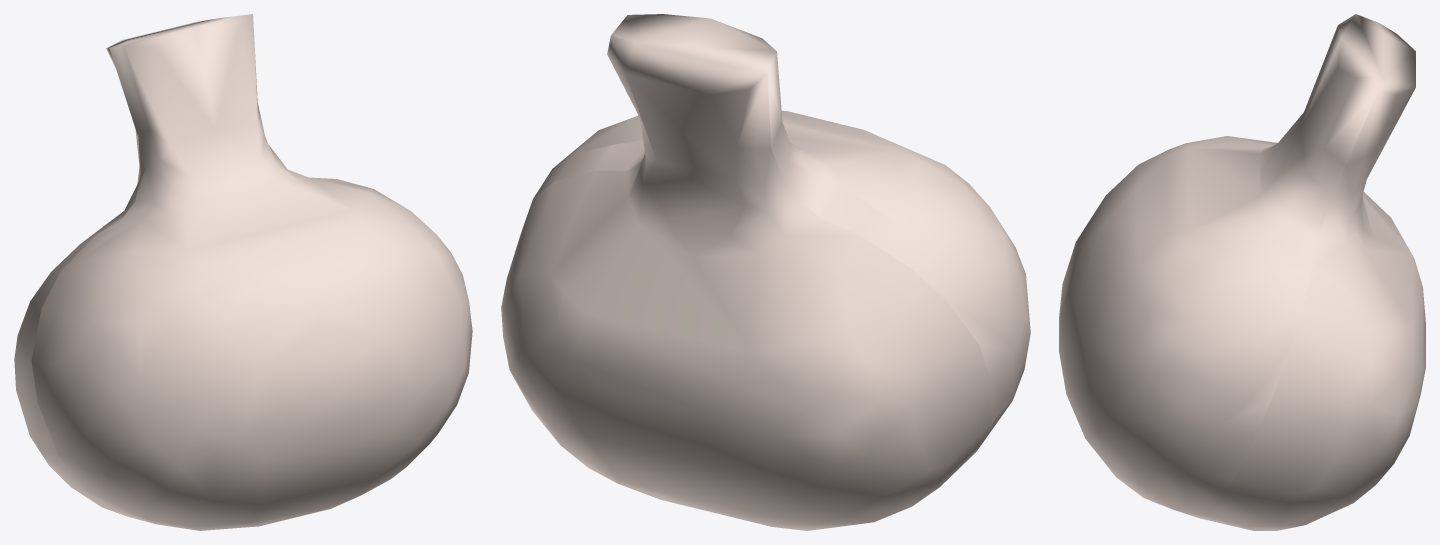
File: zanatomy-pituitary.glb
3 renders of one model, left to right at view 1: azimuth 30°, elevation 25°; view 2: azimuth 150°, elevation 25°; view 3: azimuth 270°, elevation 25°, orthographic. The views are drawn at different scales.
Parts seen in each view (by area): view 1: zb_pituitary; view 2: zb_pituitary; view 3: zb_pituitary.
Part boxes in pixels (x1,y1,x2,y2): zb_pituitary: (14,14,472,530); zb_pituitary: (501,14,1030,530); zb_pituitary: (1059,14,1425,530).
Size of the model in its own units: 0.0119 by 0.0126 by 0.00914.
